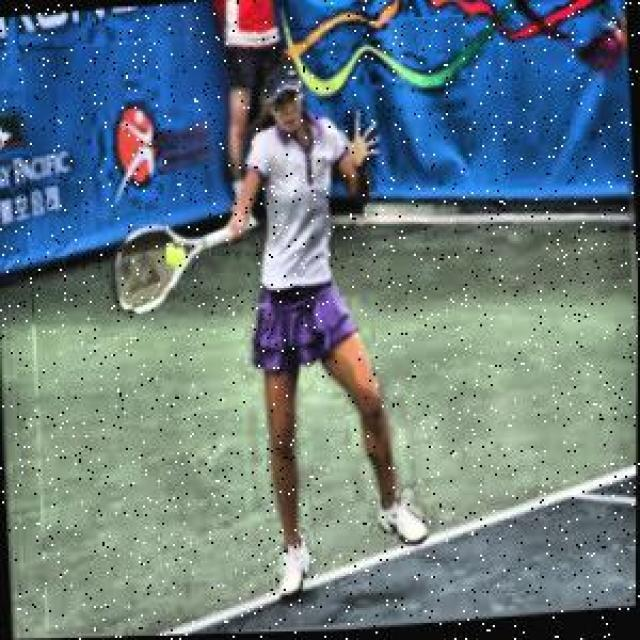tennis-ball: (167, 242, 186, 266)
